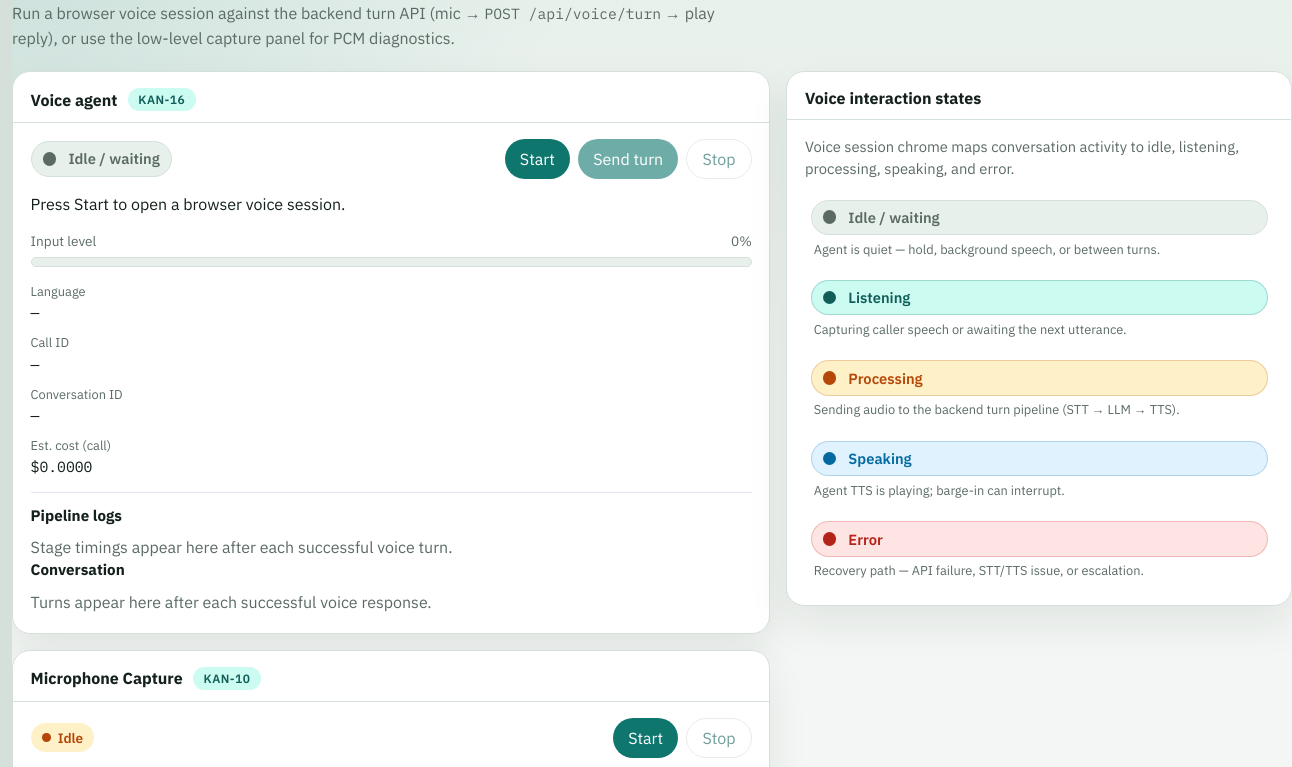
Scenario: VoiceAgentPanel (KAN-16) › TC-006 shows pipeline stage logs from the turn response
Expected: the text "Stage timings appear here after each successful voice turn." is shown, [31,537,452,557]
Expected: the text with test id "voice-session-cost" reads "$0.0000", [31,457,92,476]
Click the button with test id "voice-start". click: (537, 159)
box: [505,139,570,179]
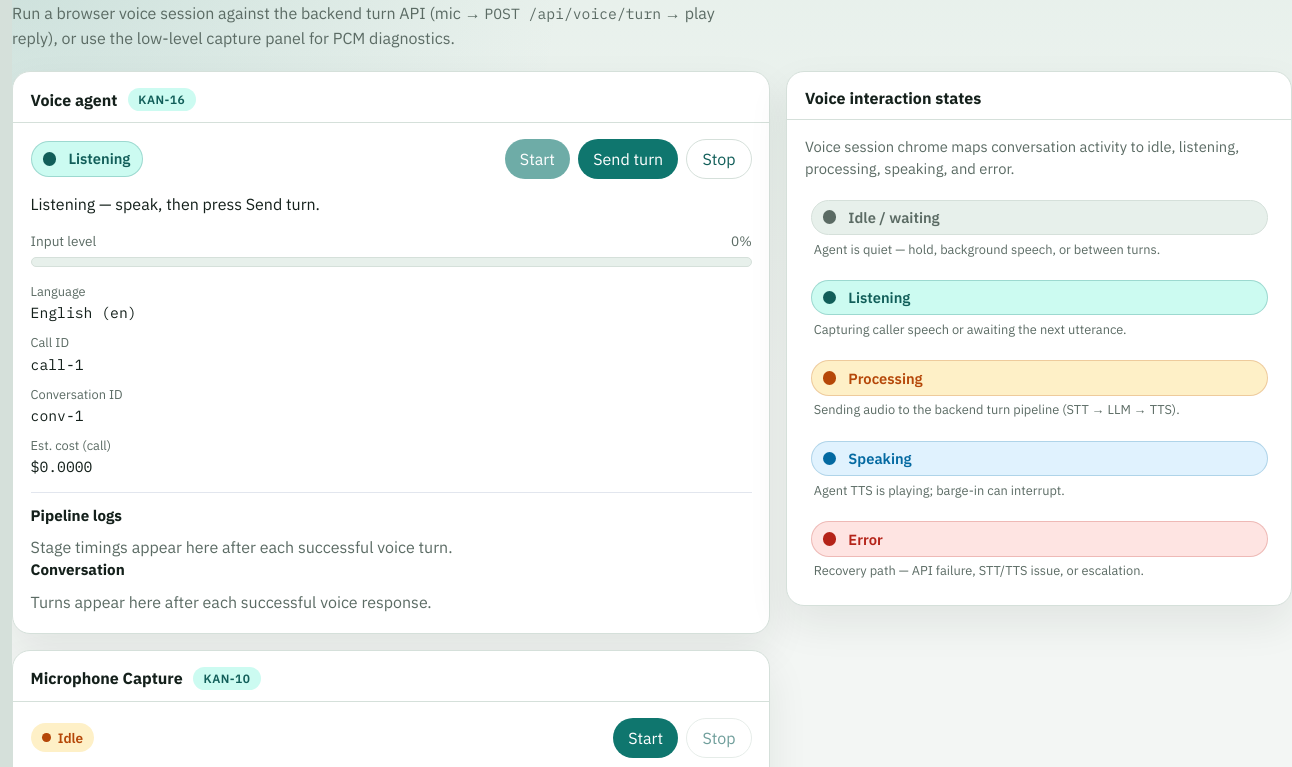
Now the button with test id "voice-send-turn" is enabled
Click the button with test id "voice-send-turn". click: (628, 159)
box: [578,139,678,179]
(page scrolled)
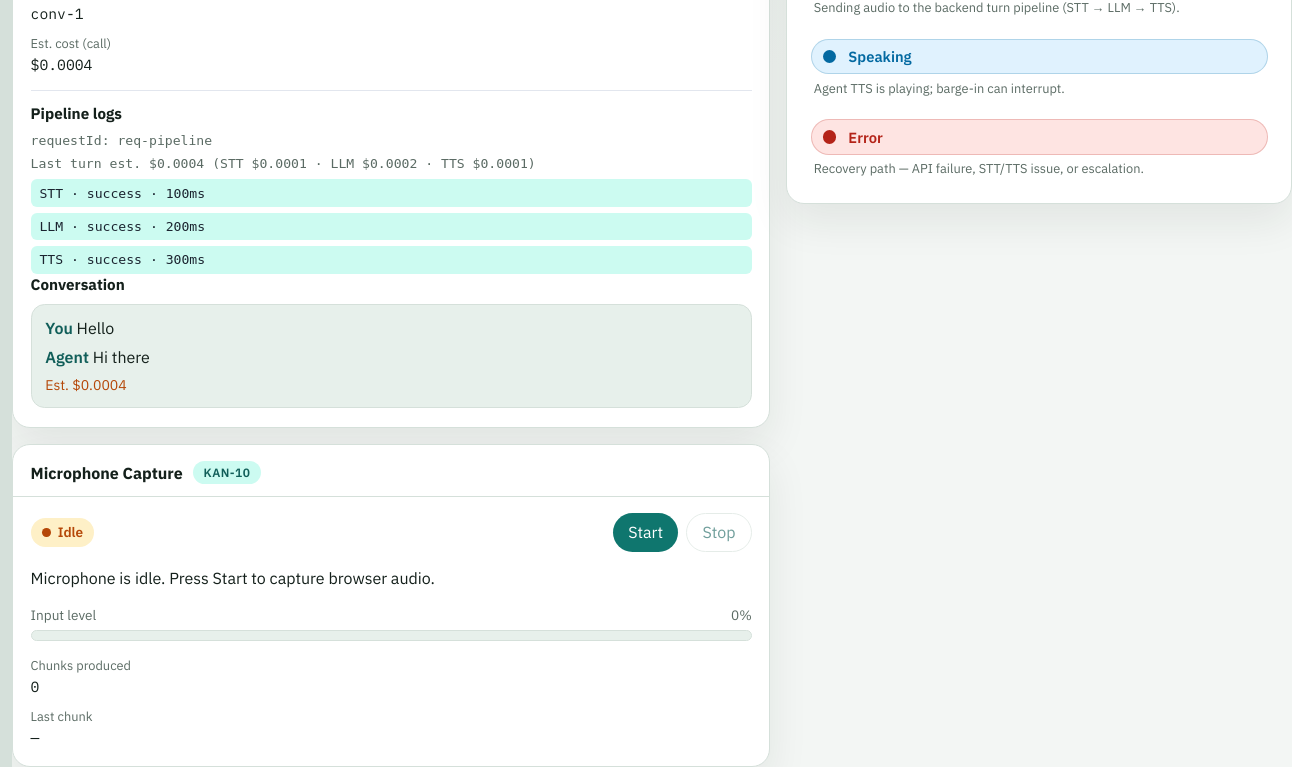
Now the text with test id "voice-pipeline-request-id" reads "requestId: req-pipeline", box [31,133,212,148]
Now the number of list items with test id "voice-pipeline-stage" is 3, box [31,179,752,207]; [31,213,752,240]; [31,246,752,274]
Now the list item with test id "voice-pipeline-stage" reads "STT · success · 100ms", box [39,186,205,201]
